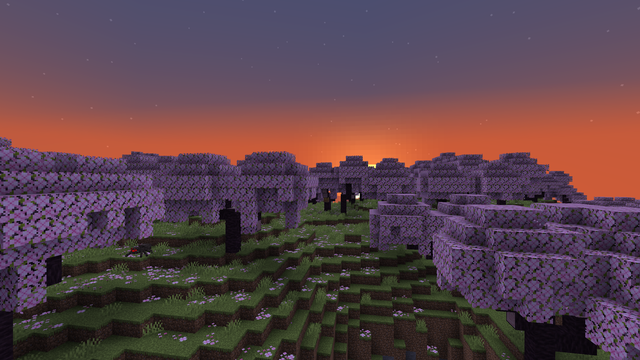araignees: (125, 242, 152, 257)
